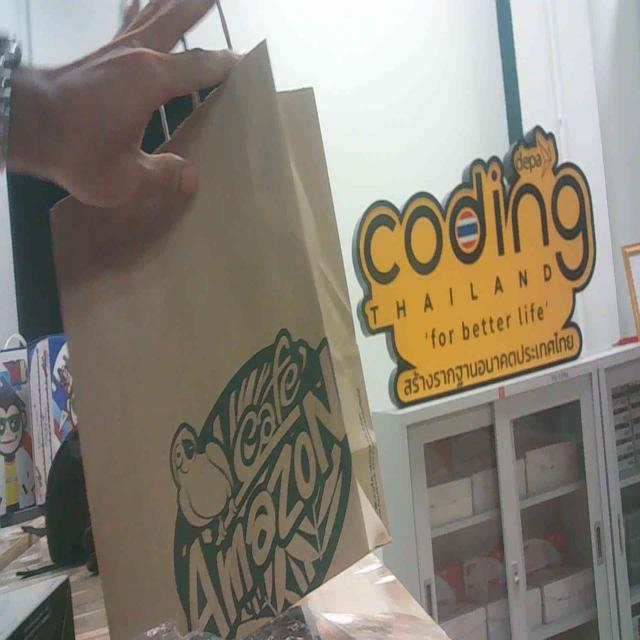bag: (51, 105, 364, 640)
